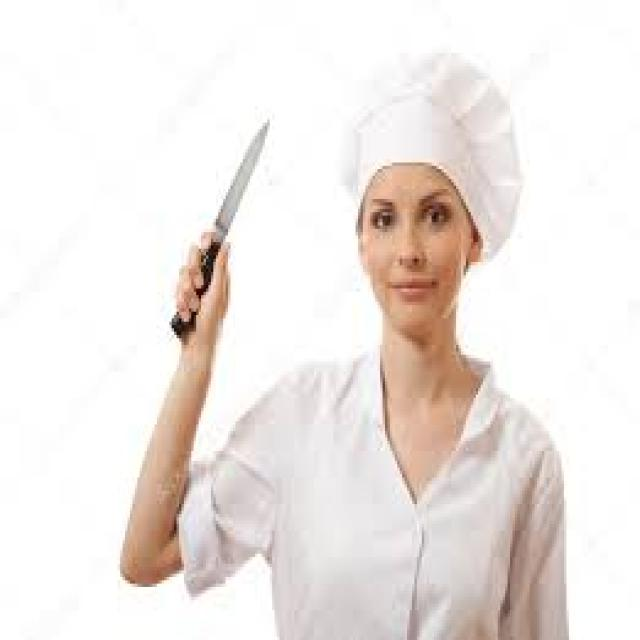Knife: (169, 116, 270, 335)
